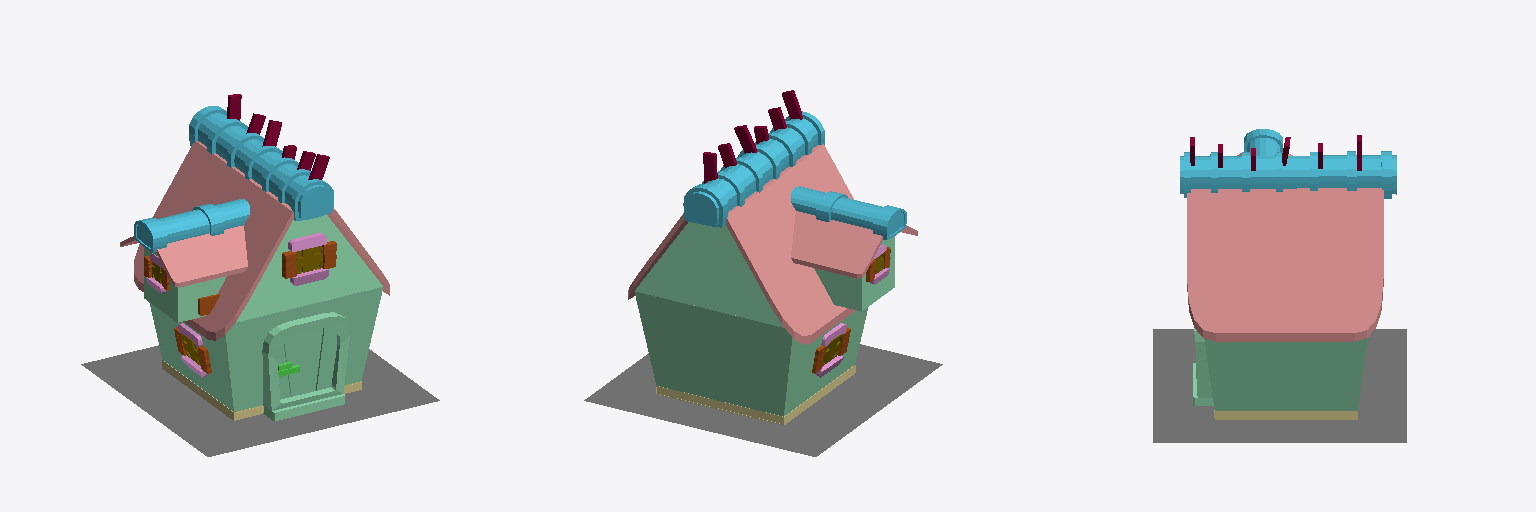
File: HOUSE2.obj
3 views of the same model, side by side, from view 1: azimuth 30°, elevation 25°; view 2: azimuth 150°, elevation 25°; view 3: azimuth 270°, elevation 25° (orthographic).
Parts seen in each view (by area): view 1: Plane001, Box003, Box001, Box002, Object001, Box005, Cylinder001, Object002, Object003, Cylinder002, Object004, Box004 (+1 smaller); view 2: Box001, Plane001, Box003, Box002, Box005, Cylinder001, Object003, Cylinder002, Box004, Object004; view 3: Box003, Plane001, Box001, Cylinder001, Object003, Box004, Object001.
Part boxes in pixels (x1,y1,x2,y2): Plane001: (81,345,439,456); Box003: (134,141,389,340); Box001: (149,286,383,411); Box002: (144,214,382,322); Object001: (262,312,349,420); Box005: (120,225,247,287); Cylinder001: (193,113,332,218); Object002: (278,328,336,399); Object003: (189,106,333,220); Cylinder002: (137,199,249,248); Object004: (134,204,223,252); Box004: (162,360,361,420); Box001: (634,291,867,416); Plane001: (584,344,942,456); Box003: (628,144,855,344); Box002: (635,222,894,327); Box005: (791,211,917,278); Cylinder001: (685,118,817,225); Object003: (683,111,824,227); Cylinder002: (791,186,903,235); Box004: (656,365,855,424); Object004: (816,191,906,239); Box003: (1187,188,1383,341); Plane001: (1153,329,1406,442); Box001: (1204,338,1367,410); Cylinder001: (1180,155,1396,194); Object003: (1184,151,1391,198); Box004: (1214,410,1357,419); Object001: (1193,328,1213,405).
Bounding box in the file's own units: 630 × 641 × 575.